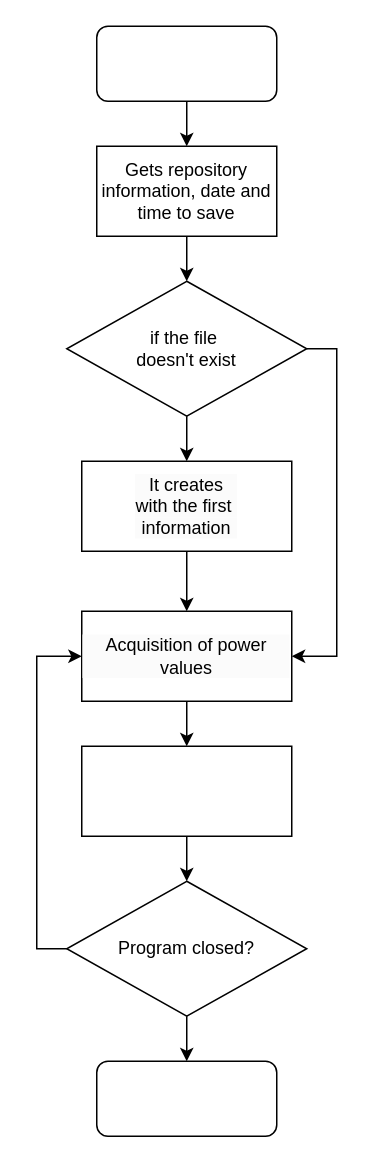
Some shapes in this 375 by 1163 pixel diagram are drawn without their labels. The centre of each missing label's shape, as x and y in pixels:
"End" goes at point 186,1098.
"Save in a csv file" goes at point 186,790.
"Start" goes at point 186,63.
